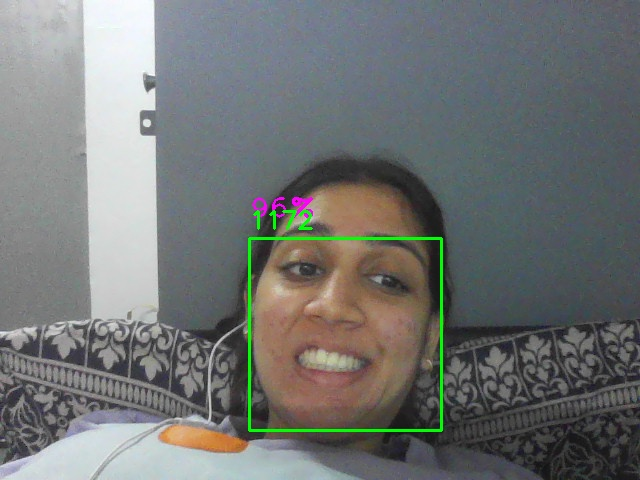real: (249, 238, 442, 431)
